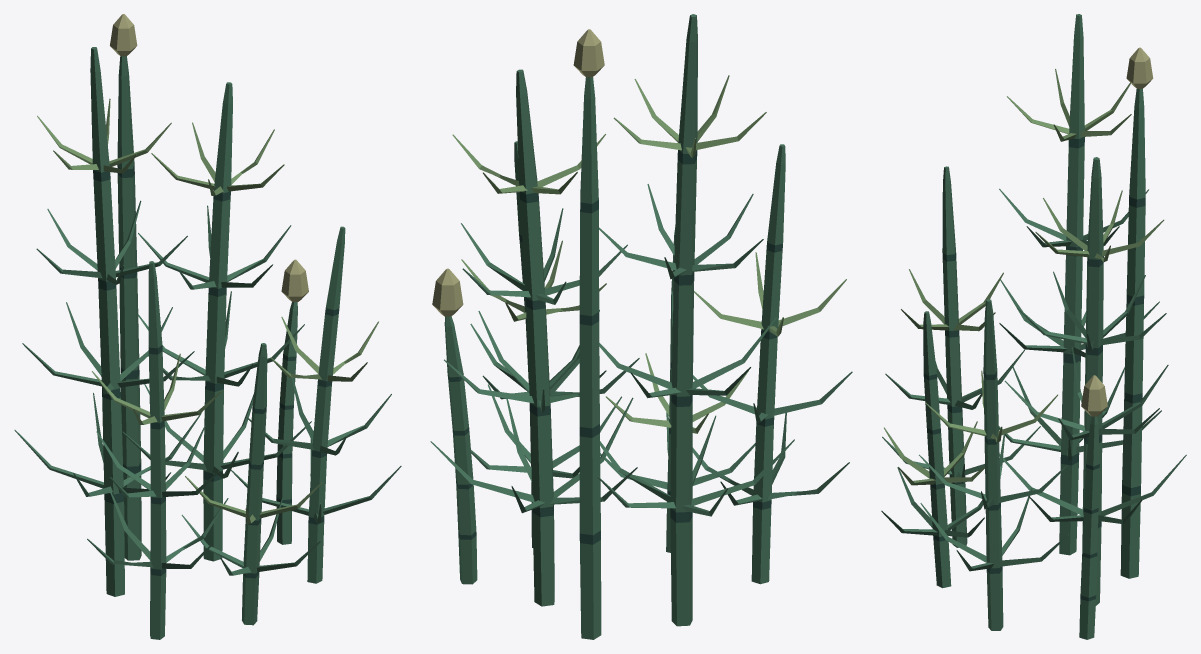
The model's file is horsetail-cluster.glb.
3 renders of one model, left to right at view 1: azimuth 30°, elevation 25°; view 2: azimuth 150°, elevation 25°; view 3: azimuth 270°, elevation 25°, orthographic. The views are drawn at different scales.
Visible parts, largest first — view 1: Seven jointed upright stems with dark node sheaths, Lower open whorls of slender branches, Younger upper whorls, Two quiet terminal spore cones; view 2: Seven jointed upright stems with dark node sheaths, Lower open whorls of slender branches, Younger upper whorls, Two quiet terminal spore cones; view 3: Seven jointed upright stems with dark node sheaths, Lower open whorls of slender branches, Younger upper whorls, Two quiet terminal spore cones.
Boxes of the visible parts, bbox=[...] form: Seven jointed upright stems with dark node sheaths: bbox=[90, 47, 345, 639]; Lower open whorls of slender branches: bbox=[14, 200, 401, 575]; Younger upper whorls: bbox=[37, 98, 378, 524]; Two quiet terminal spore cones: bbox=[110, 14, 308, 301]; Seven jointed upright stems with dark node sheaths: bbox=[444, 14, 785, 639]; Lower open whorls of slender branches: bbox=[430, 184, 852, 516]; Younger upper whorls: bbox=[452, 75, 846, 433]; Two quiet terminal spore cones: bbox=[432, 29, 604, 316]; Seven jointed upright stems with dark node sheaths: bbox=[923, 14, 1145, 639]; Lower open whorls of slender branches: bbox=[881, 188, 1186, 571]; Younger upper whorls: bbox=[884, 69, 1164, 485]; Two quiet terminal spore cones: bbox=[1081, 47, 1153, 416].
Size of the model in its own units: 0.9113 by 1.48 by 0.7753.
